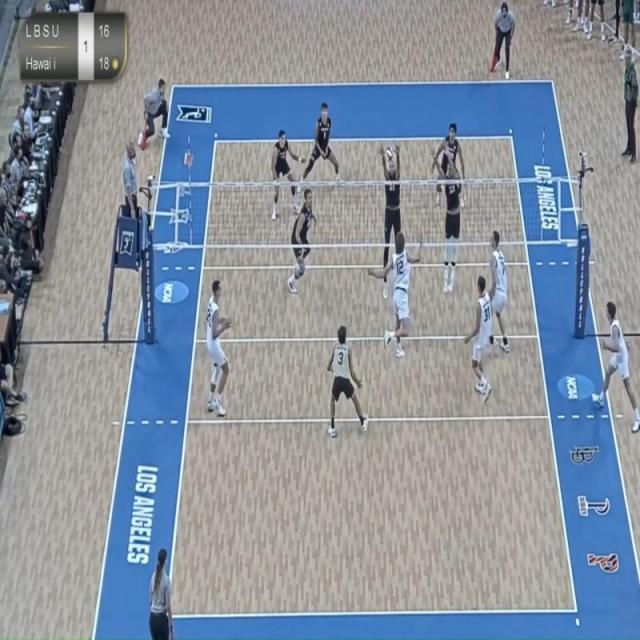volleyball: (383, 141, 396, 166)
